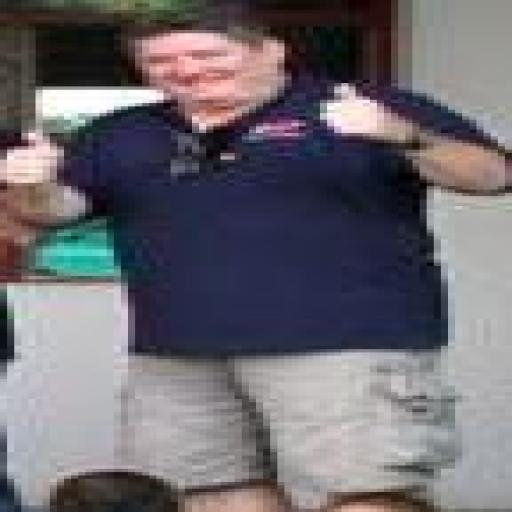person: (0, 0, 511, 511), (43, 469, 177, 511), (0, 290, 14, 379)
